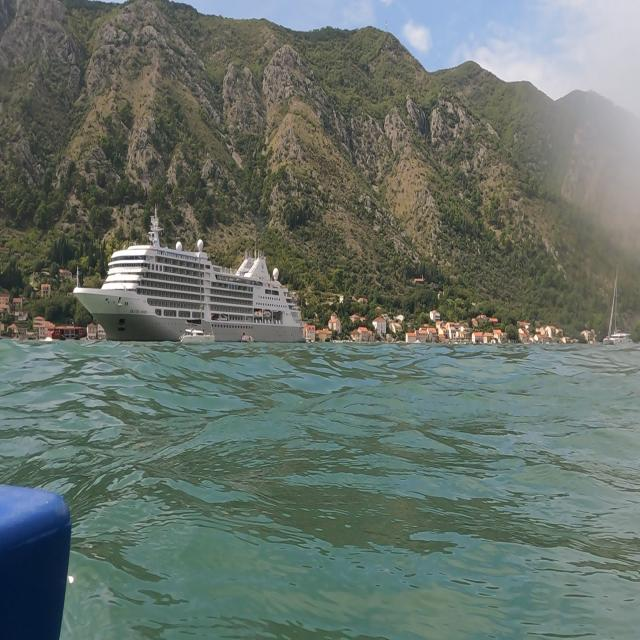boat: (71, 202, 312, 348), (598, 256, 636, 362)
